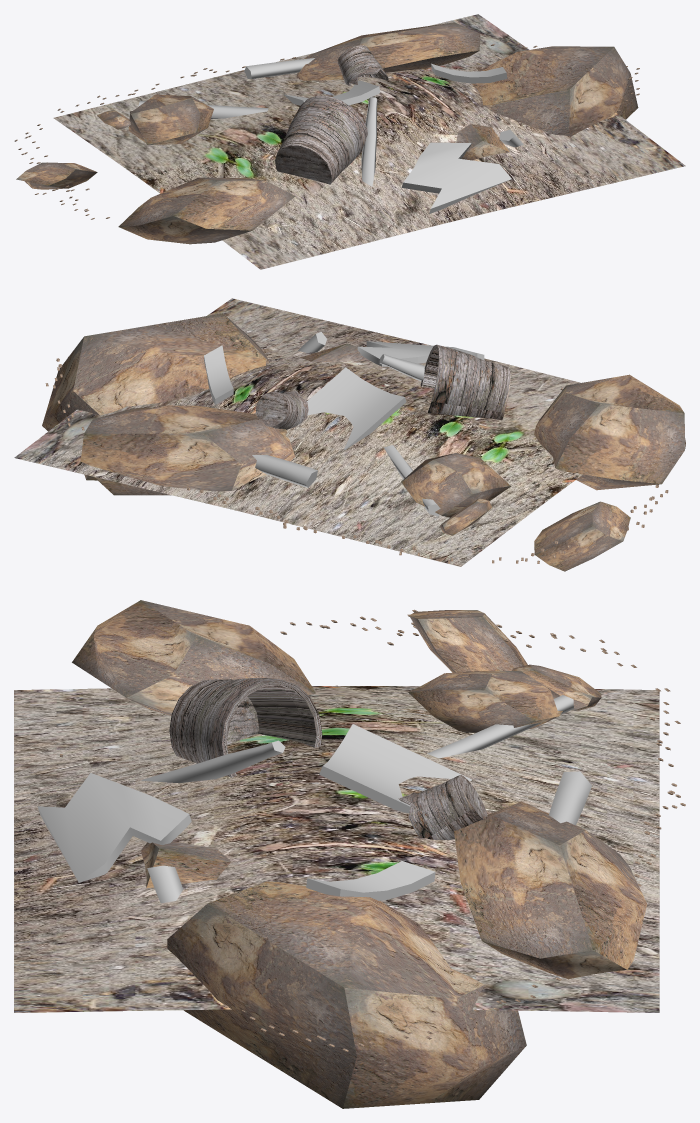
File: debris.FBX
3 views of the same model, one above another, from view 1: azimuth 30°, elevation 25°; view 2: azimuth 150°, elevation 25°; view 3: azimuth 270°, elevation 25° (orthographic). The views are drawn at different scales.
Visible parts, largest first — view 1: Plane001, Rock008, Rock007, board, wooden bucket, Rock006, Rock004, Rock2, wooden bucket001, Rock005, wood, wood2 (+2 smaller); view 2: Plane001, Rock006, Rock008, Rock007, board, wooden bucket, Rock004, Rock2, wooden bucket001, wood2, Rock009, Rock005 (+2 smaller); view 3: Plane001, Rock008, Rock006, board, Rock007, wooden bucket, Rock004, Rock2, wooden bucket001, Rock005, wood, Rock009 (+3 smaller).
Part boxes in pixels (left/top/right/bottom): Plane001: left=53, top=14, right=685, bottom=269; Rock008: left=471, top=46, right=638, bottom=136; Rock007: left=118, top=177, right=295, bottom=244; board: left=284, top=63, right=511, bottom=213; wooden bucket: left=275, top=95, right=367, bottom=184; Rock006: left=296, top=22, right=480, bottom=80; Rock004: left=128, top=94, right=213, bottom=144; Rock2: left=16, top=162, right=97, bottom=189; wooden bucket001: left=337, top=45, right=388, bottom=86; Rock005: left=456, top=124, right=509, bottom=160; wood: left=361, top=97, right=377, bottom=186; wood2: left=244, top=58, right=314, bottom=78; Plane001: left=14, top=298, right=582, bottom=566; Rock006: left=80, top=405, right=294, bottom=495; Rock008: left=42, top=313, right=269, bottom=480; Rock007: left=534, top=374, right=685, bottom=490; board: left=204, top=341, right=484, bottom=449; wooden bucket: left=420, top=344, right=510, bottom=420; Rock004: left=401, top=453, right=510, bottom=517; Rock2: left=534, top=501, right=630, bottom=571; wooden bucket001: left=256, top=391, right=308, bottom=429; wood2: left=252, top=455, right=317, bottom=487; Rock009: left=439, top=498, right=491, bottom=535; Rock005: left=300, top=343, right=368, bottom=362; Plane001: left=14, top=685, right=659, bottom=1012; Rock008: left=167, top=881, right=526, bottom=1108; Rock006: left=454, top=801, right=647, bottom=979; board: left=37, top=724, right=472, bottom=900; Rock007: left=72, top=600, right=315, bottom=715; wooden bucket: left=169, top=678, right=322, bottom=777; Rock004: left=408, top=671, right=562, bottom=732; Rock2: left=409, top=610, right=527, bottom=672; wooden bucket001: left=398, top=775, right=487, bottom=839; Rock005: left=141, top=841, right=230, bottom=888; wood: left=141, top=740, right=285, bottom=783; Rock009: left=512, top=664, right=601, bottom=710.
Bounding box in the file's own units: 164 × 37.59 × 105.
